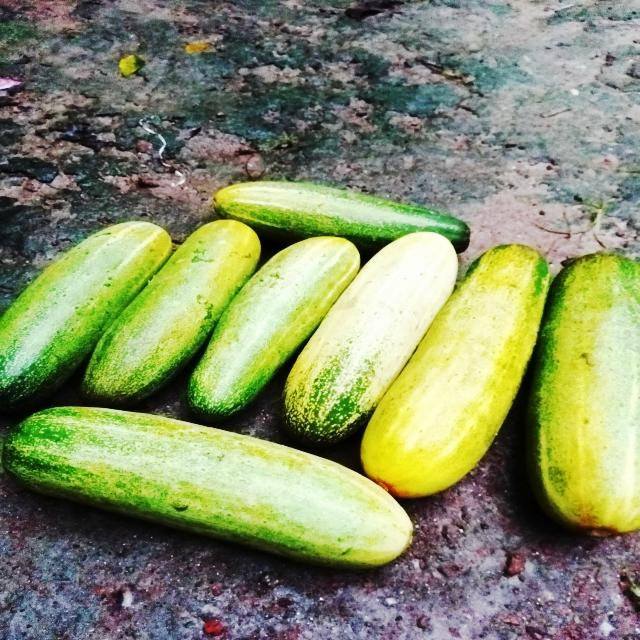Fresh-Cucumber: (1, 400, 416, 573), (356, 239, 553, 501), (280, 229, 462, 439), (79, 217, 263, 404), (0, 218, 174, 411), (184, 234, 360, 422), (535, 245, 640, 541), (215, 176, 473, 257)
